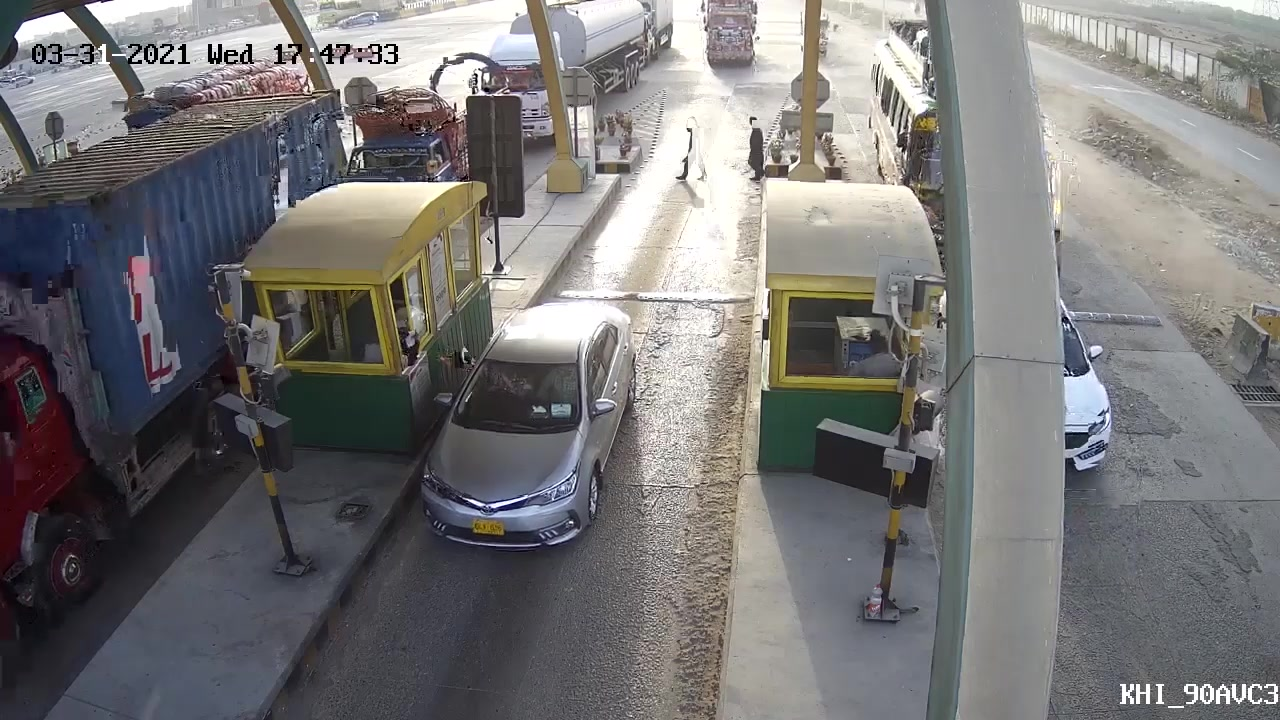F1: (404, 299, 643, 555)
